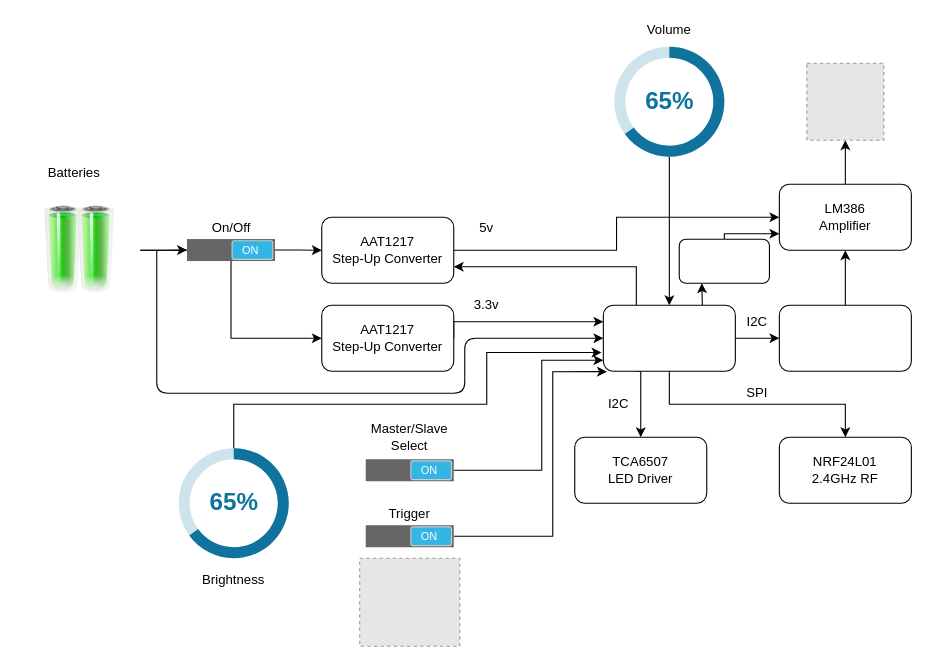
The diagram is 931 pixels wide and 666 high, and some of its shapes have lost their labels. Grey dashed boxes stand in for pictures. Here are the shapes that lost their labels. From the top down, the centre of each, then its label:
At point 723,260: "Digital Potentiometer".
At point 668,337: "STM32F030 Microcontroller".
At point 844,337: "MCP4725 Digital-to-Analog".
